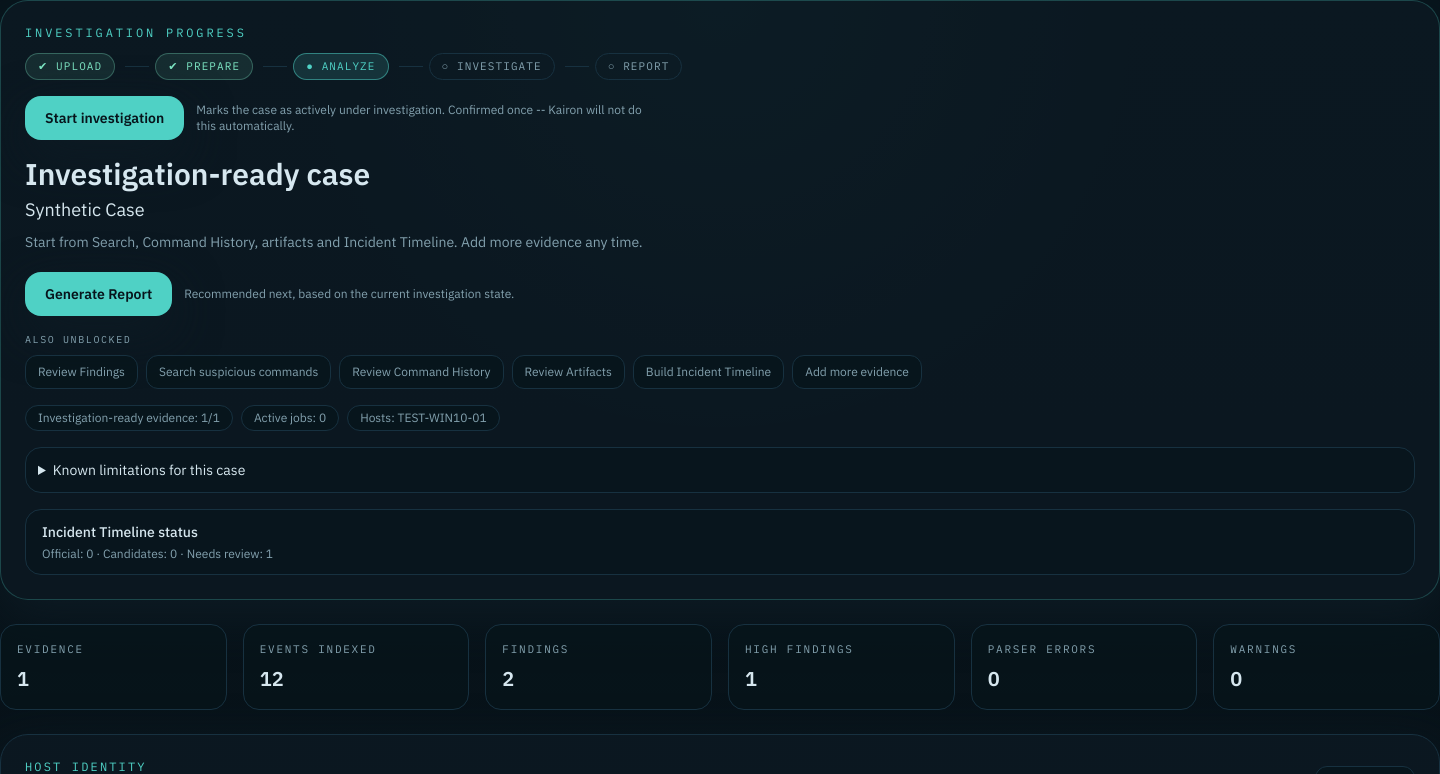
CaseOverviewPage › manual INVESTIGATE / REPORT workflow actions › transitions Analyze to Investigate: persists the override, refetches, updates the stage rail and hides the action
This screenshot has width=1440, height=774.
Click the button with test id "start-investigation-action" at (105, 118), box [25,96,184,140]
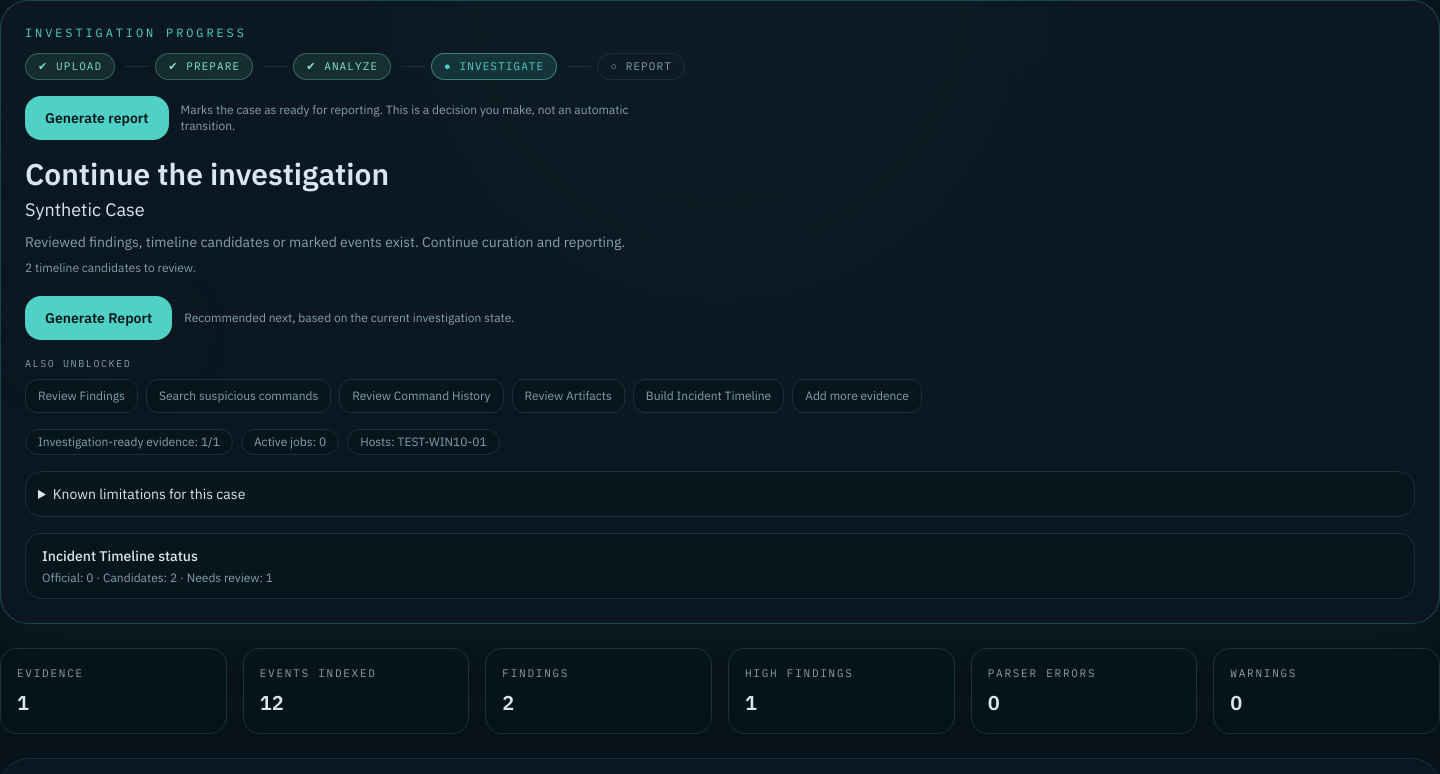
Expected: the list with test id "investigation-stage-progress" shows "Investigate", [460,59,544,73]
Result: the button with test id "generate-report-action" is shown at [25,96,169,140]
Result: the button with test id "start-investigation-action" is gone
